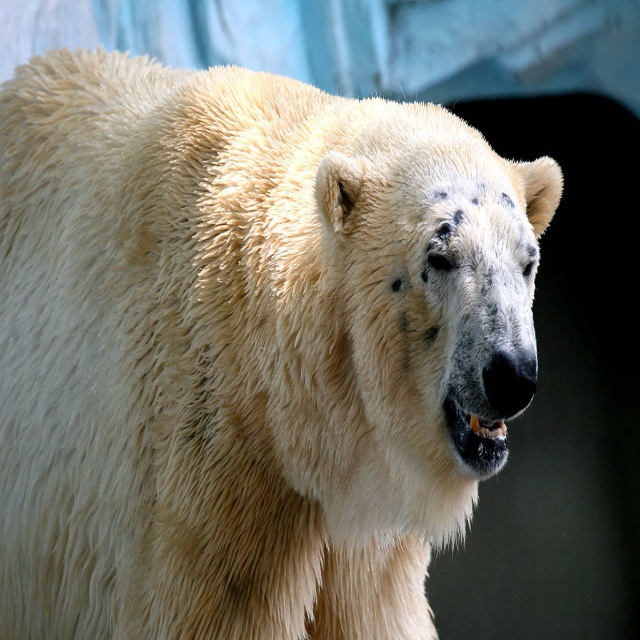Polar bear: (0, 45, 565, 640)
